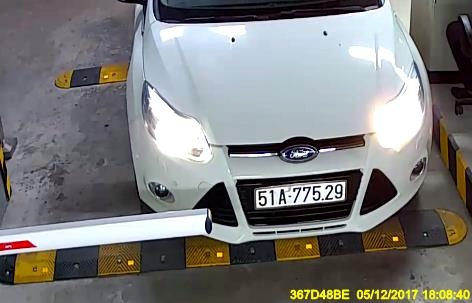plate: (253, 179, 349, 207)
